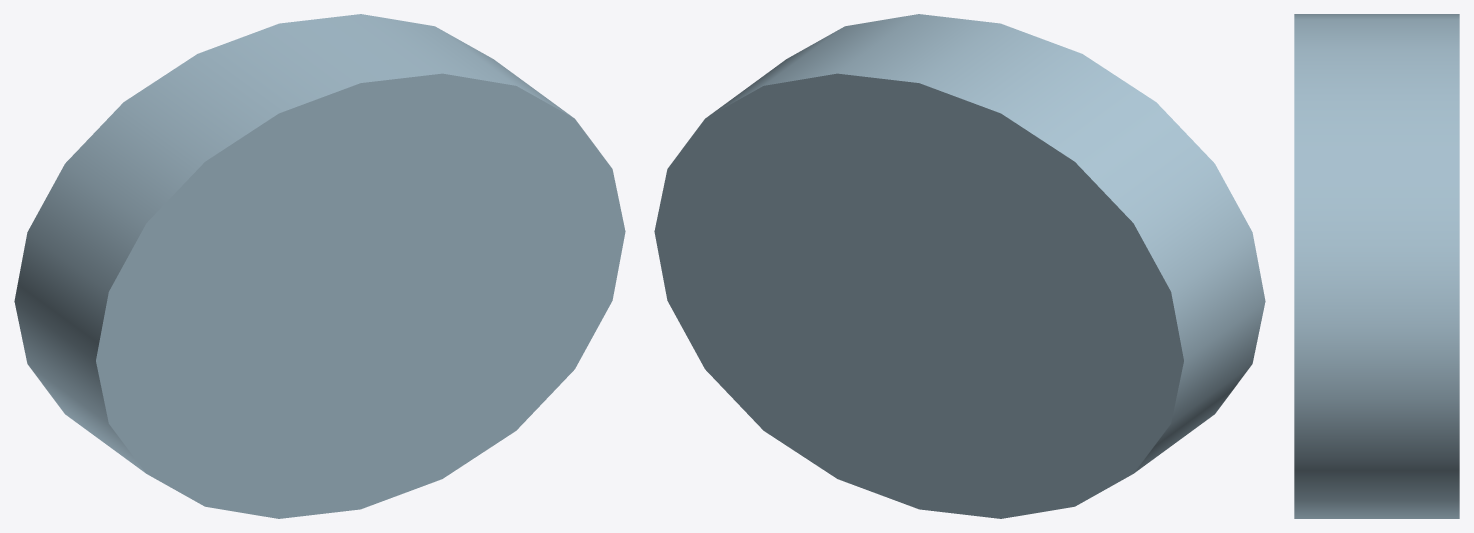
File: ventana_puerta.obj
3 renders of one model, left to right at view 1: azimuth 30°, elevation 25°; view 2: azimuth 150°, elevation 25°; view 3: azimuth 270°, elevation 25°, orthographic.
Visible parts, largest first — view 1: polySurface289rack_vino_pCube19; view 2: polySurface289rack_vino_pCube19; view 3: polySurface289rack_vino_pCube19.
Boxes of the visible parts, bbox=[...] form: polySurface289rack_vino_pCube19: bbox=[14, 14, 625, 518]; polySurface289rack_vino_pCube19: bbox=[654, 14, 1265, 518]; polySurface289rack_vino_pCube19: bbox=[1294, 14, 1459, 518].
Size of the model in its own units: 0.3901 by 0.3 by 0.1039.
Materials: 1 (1 with a texture image).
